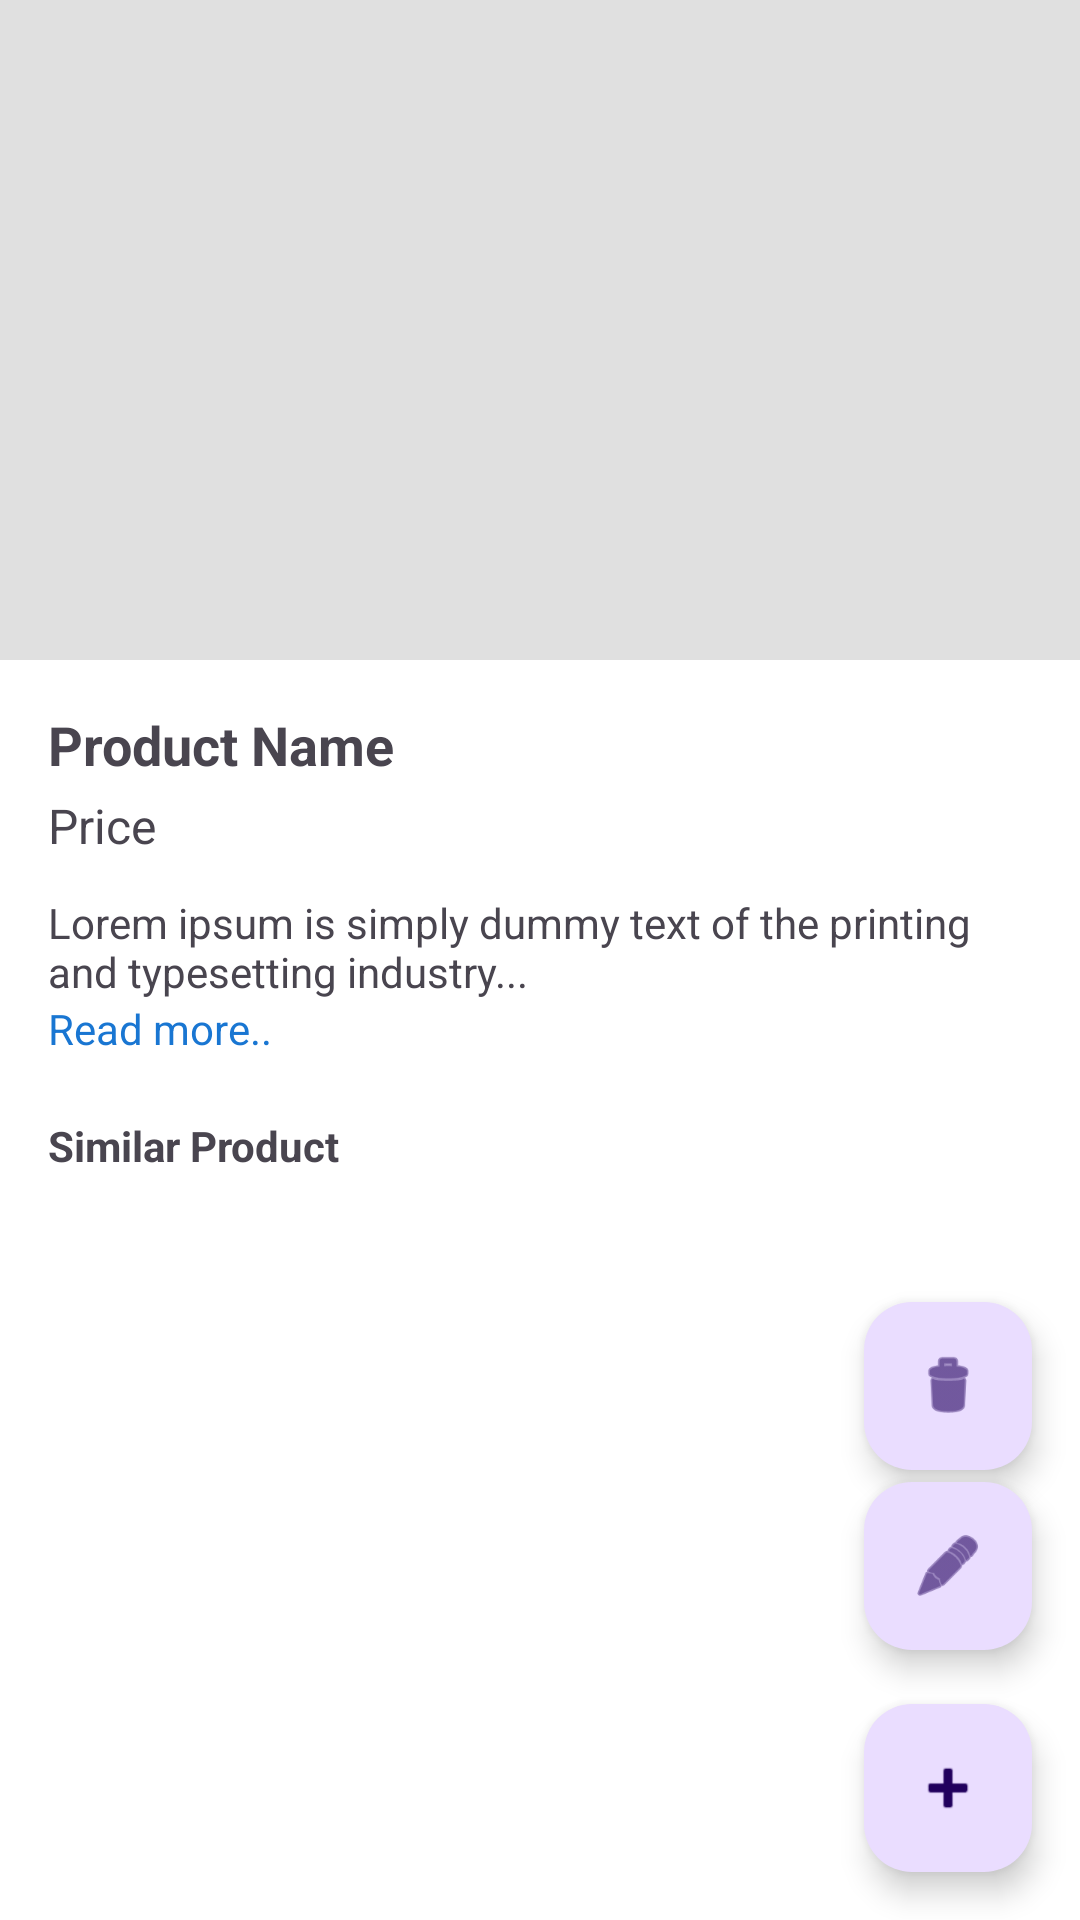

Where to tap for icons on this 1080 x 1920 app screen, as [x,y]:
Delete product: [948,1386]
Edit product: [948,1566]
Product action: [948,1788]
